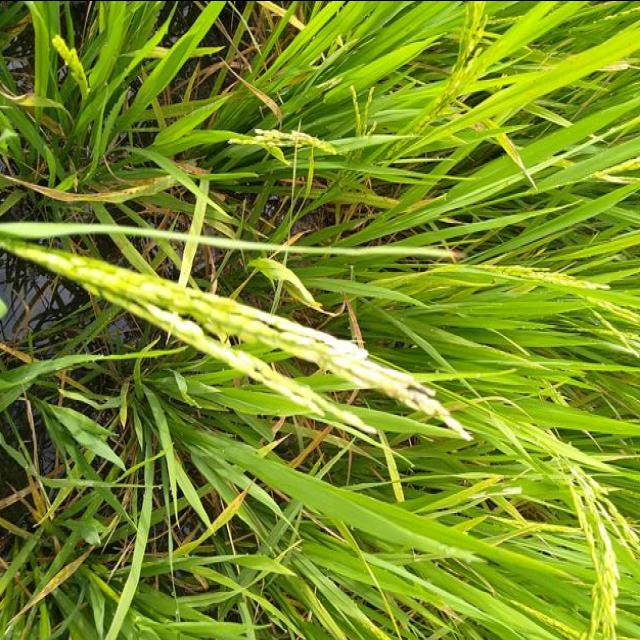Panicle Blight: (122, 282, 467, 437)
